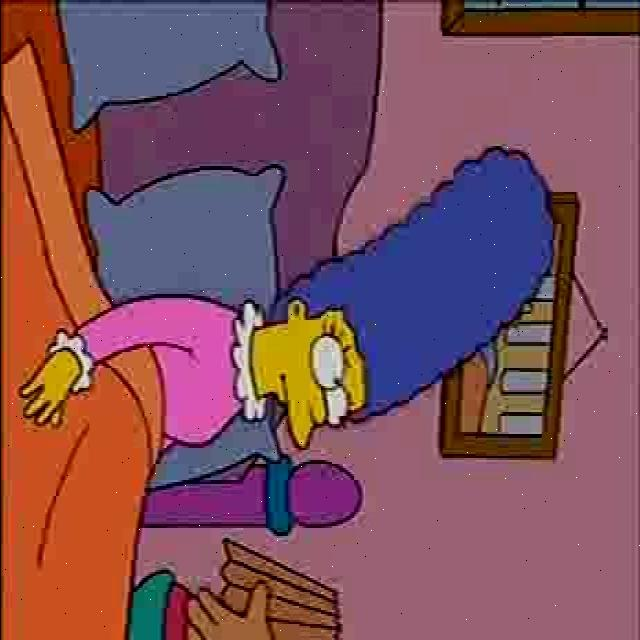Marge Simpson: (228, 148, 554, 452)
